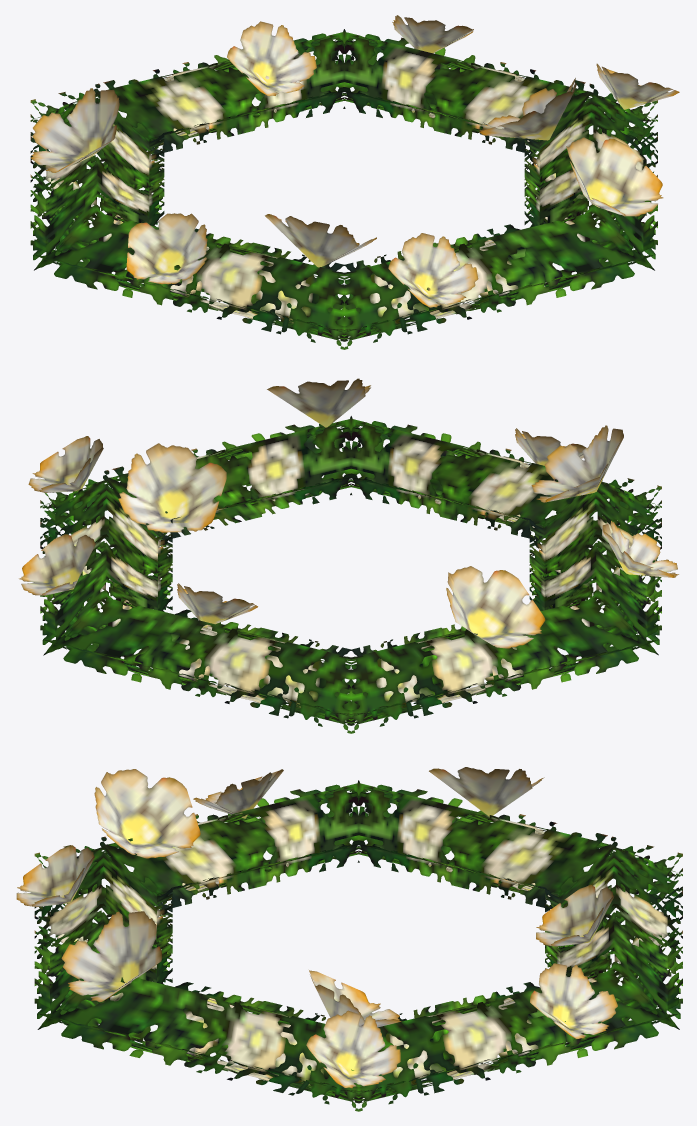
The model's file is flowerswreath01.obj.
The picture shows the model from 3 angles, top to bottom: view 1: azimuth 30°, elevation 25°; view 2: azimuth 150°, elevation 25°; view 3: azimuth 270°, elevation 25°; orthographic projection. The views are drawn at different scales.
Parts seen in each view (by area): view 1: flowerswreath01; view 2: flowerswreath01; view 3: flowerswreath01.
Boxes of the visible parts, bbox=[...] form: flowerswreath01: bbox=[30, 15, 679, 349]; flowerswreath01: bbox=[19, 378, 678, 733]; flowerswreath01: bbox=[16, 767, 682, 1111].
Bounding box in the file's own units: 1.57 × 0.3061 × 1.36.
Materials: 1 (1 with a texture image).
